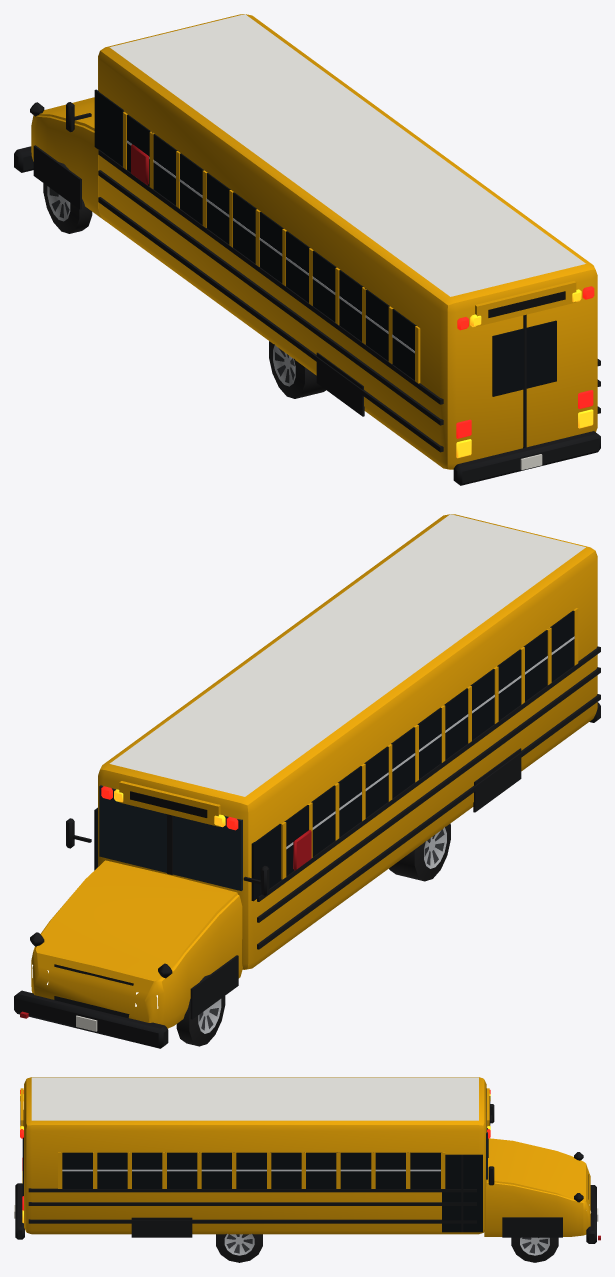
File: school_bus.glb
3 views of the same model, one above another, from view 1: azimuth 30°, elevation 25°; view 2: azimuth 150°, elevation 25°; view 3: azimuth 270°, elevation 25° (orthographic). The views are drawn at different scales.
Visible parts, largest first — view 1: school_bus; view 2: school_bus; view 3: school_bus.
Boxes of the visible parts, x1=… form: school_bus: x1=14, y1=14, x2=600, y2=485; school_bus: x1=14, y1=514, x2=600, y2=1048; school_bus: x1=14, y1=1077, x2=600, y2=1262.
Size of the model in its own units: 3.14 by 3.2 by 12.12.
